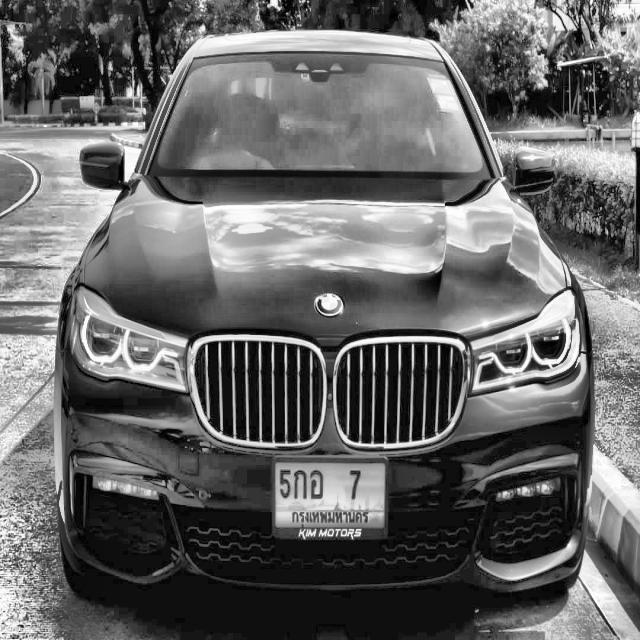license-plate: (272, 452, 390, 540)
